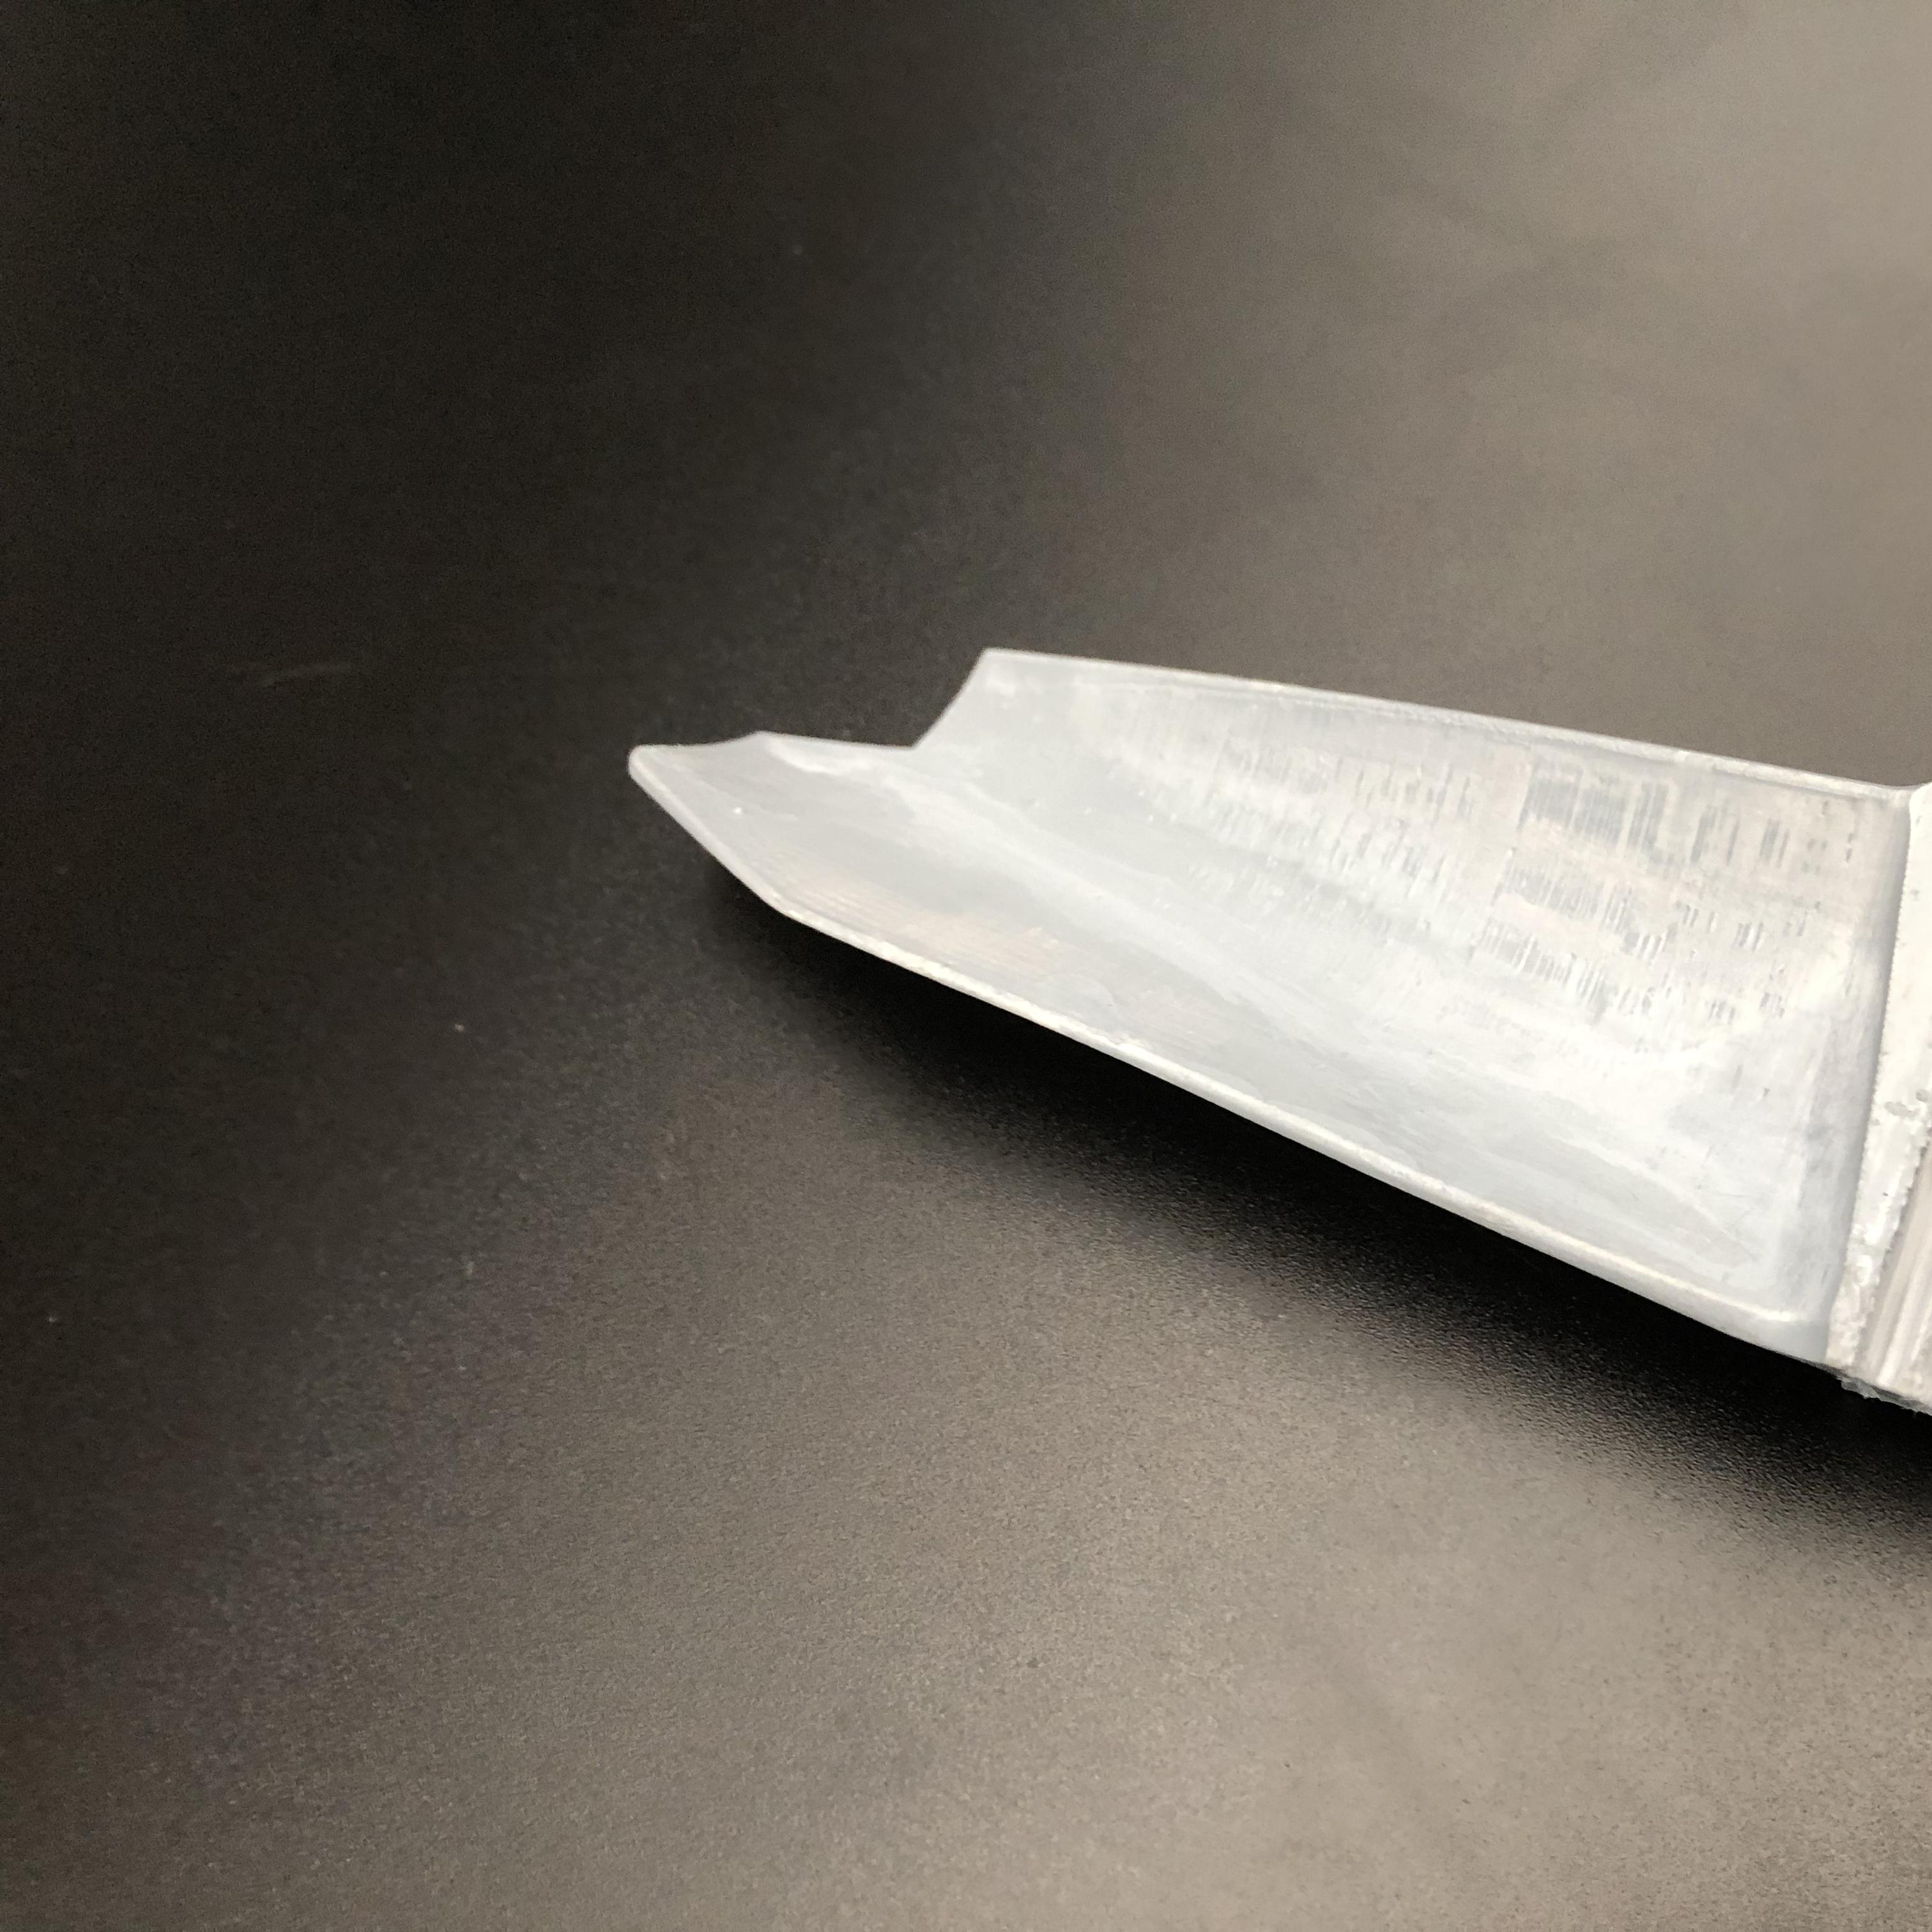fracture: (651, 644, 1019, 786)
